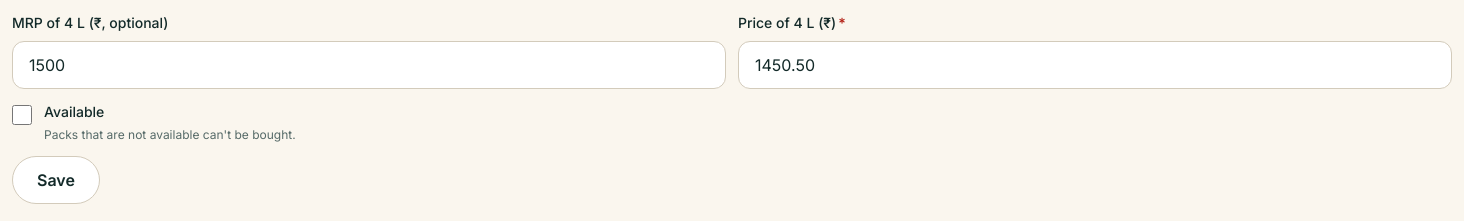
PackRowForm › shows the stored rupee values and the saved status
Expected: the field labelled "Price of 4 L (₹)" holds "1450.50", [738,41,1452,89]
Expected: the checkbox labelled "Available" is not checked, [12,105,32,125]
What coordinates should you click on to do the following:
click the button with aria-label "Save 4 L"
I would click on:
 (56, 180)
Its box is [12,156,100,204].
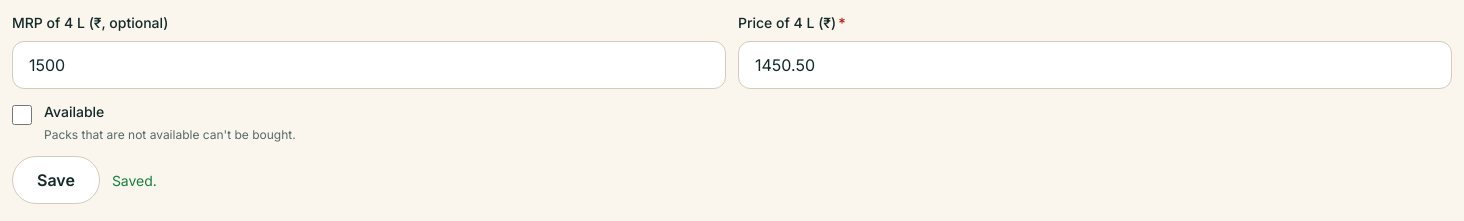
Expected: the text "Saved." is shown, [112,170,157,190]
